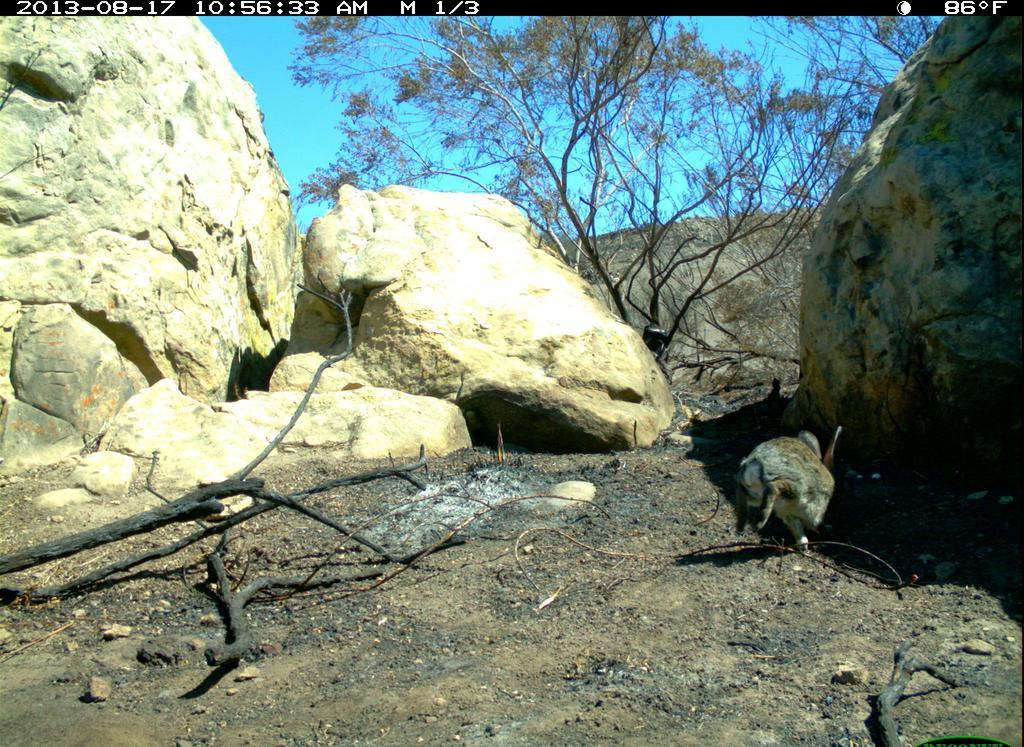rabbit: (710, 413, 854, 580)
